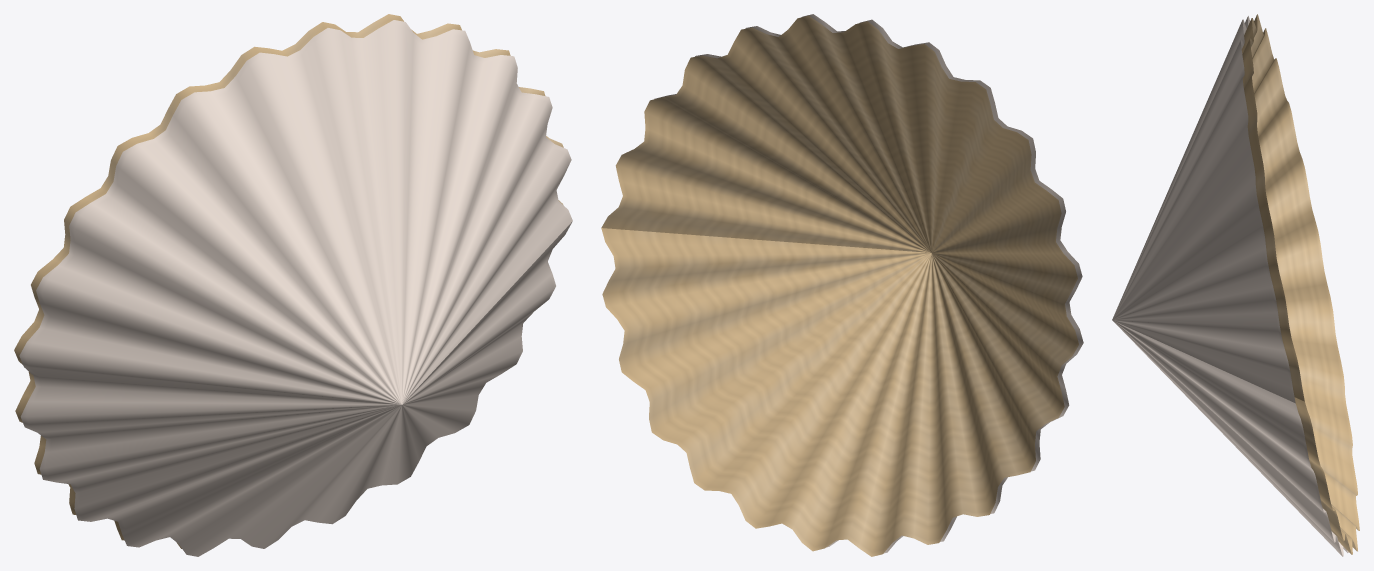
The model's file is limpet.glb.
The picture shows the model from 3 angles, left to right: view 1: azimuth 30°, elevation 25°; view 2: azimuth 150°, elevation 25°; view 3: azimuth 270°, elevation 25°; orthographic projection. The views are drawn at different scales.
Parts seen in each view (by area): view 1: limpet; view 2: limpet; view 3: limpet.
Part boxes in pixels (left/top/right/bottom): limpet: left=14, top=14, right=572, bottom=556; limpet: left=601, top=14, right=1083, bottom=556; limpet: left=1112, top=14, right=1359, bottom=556.
Size of the model in its own units: 2.38 by 2.34 by 1.06.
